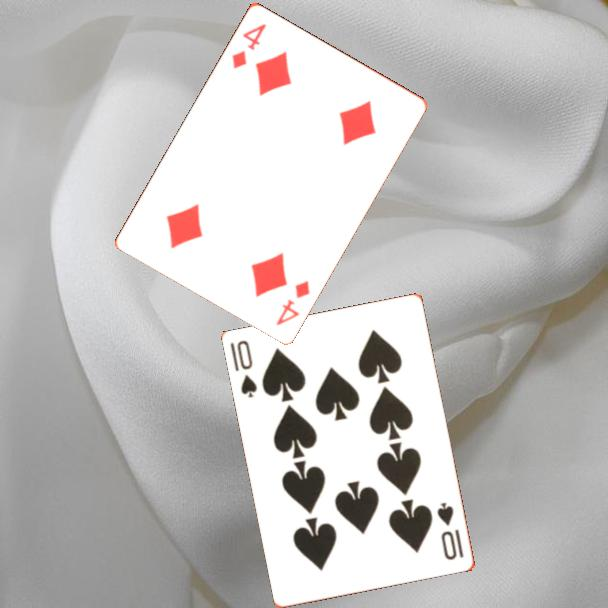d04: (272, 276, 313, 328), (228, 20, 269, 71)
s10: (434, 499, 467, 563), (227, 337, 260, 401)
